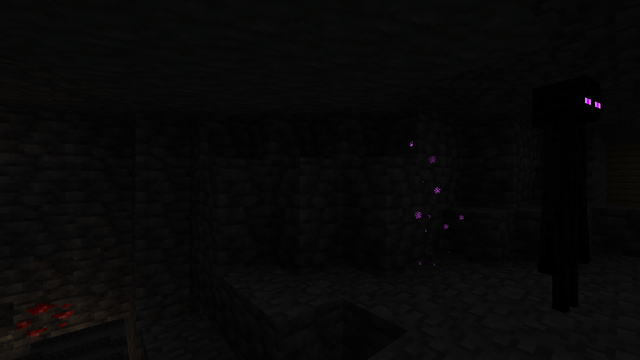endermens: (529, 64, 600, 325)
